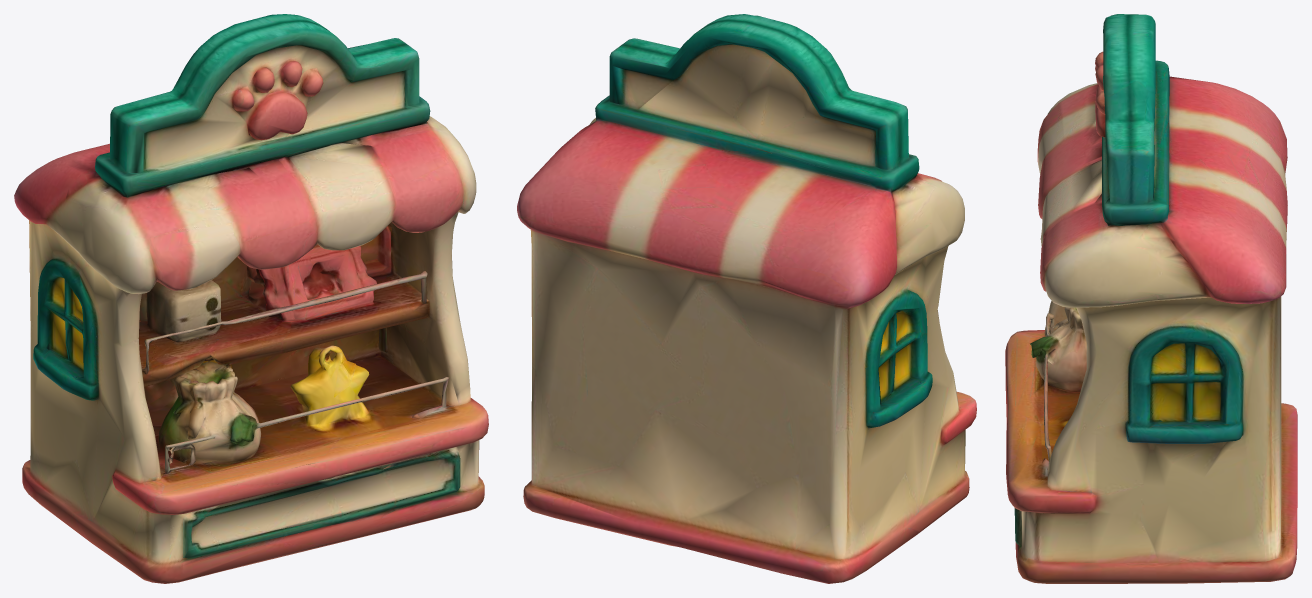
Rendered from item-shop-kiosk.glb.
3 renders of one model, left to right at view 1: azimuth 30°, elevation 25°; view 2: azimuth 150°, elevation 25°; view 3: azimuth 270°, elevation 25°, orthographic. The views are drawn at different scales.
Parts seen in each view (by area): view 1: Mesh_0; view 2: Mesh_0; view 3: Mesh_0.
Boxes of the visible parts, x1,y1,x2,y2 form: Mesh_0: (14, 14, 488, 583); Mesh_0: (517, 14, 976, 583); Mesh_0: (1005, 14, 1297, 583).
Size of the model in its own units: 1.62 by 2 by 1.11.
1 material, 1 textured.
